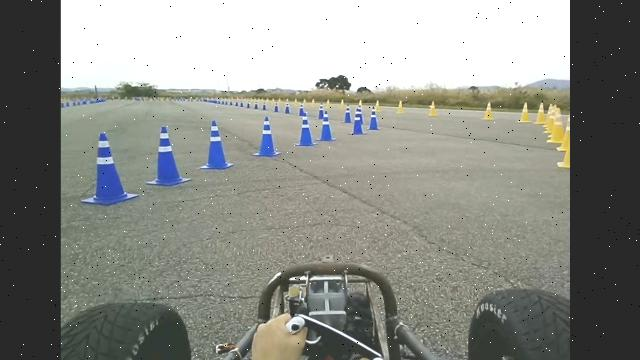blue cone: (80, 132, 139, 205), (141, 124, 196, 187), (196, 114, 236, 175), (248, 111, 283, 159), (290, 112, 323, 151)
